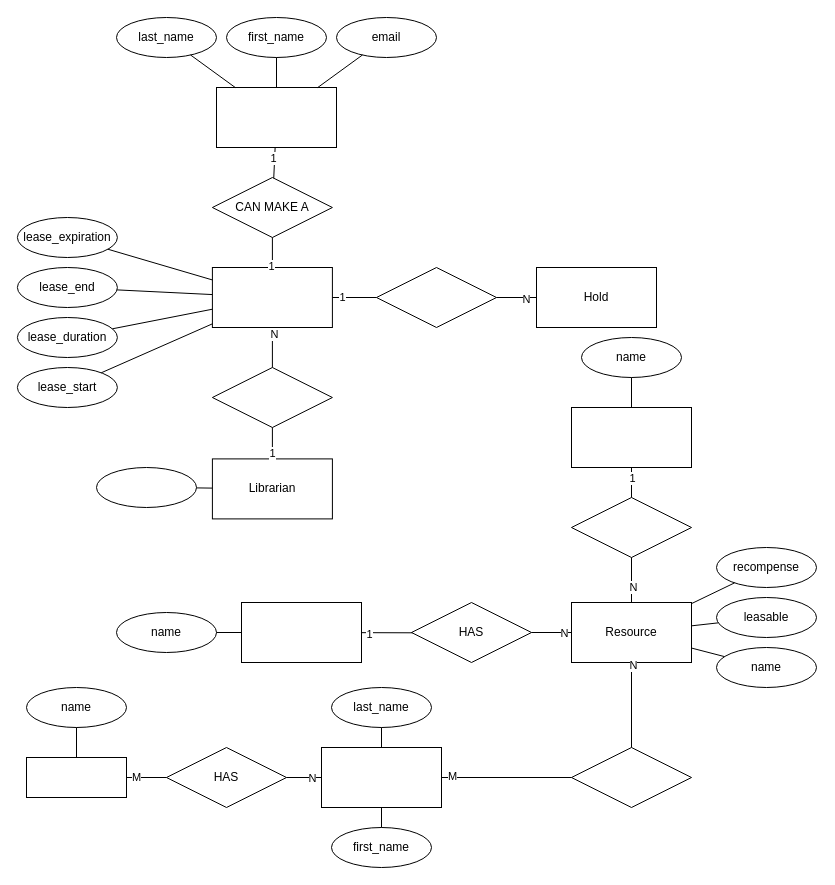
The diagram is 835 pixels wide and 885 high, and some of its shapes have lost their labels. The box of each missing label's shape, as (x1, y1, x2, y2) in pixels:
access_level: (96, 466, 196, 508)
Account: (216, 86, 336, 148)
Author: (320, 746, 442, 808)
CAN BE ON: (376, 266, 496, 328)
HANDLES: (211, 366, 332, 428)
Institution: (570, 406, 692, 468)
Lease: (211, 266, 332, 328)
Nationality: (26, 756, 126, 798)
OWNS: (570, 496, 692, 558)
Type: (240, 602, 362, 662)
WAS CREATED BY: (570, 746, 692, 808)
